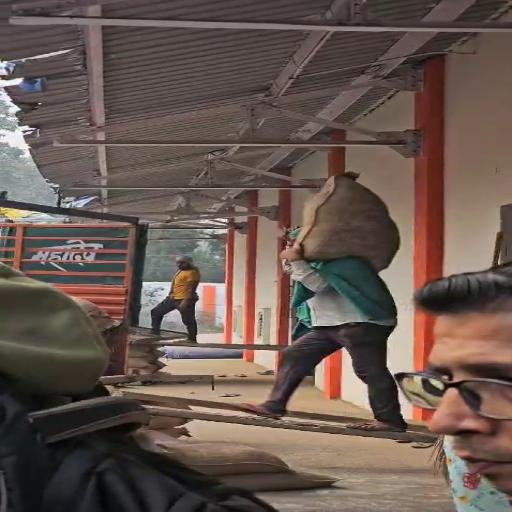bag: (291, 166, 402, 272)
